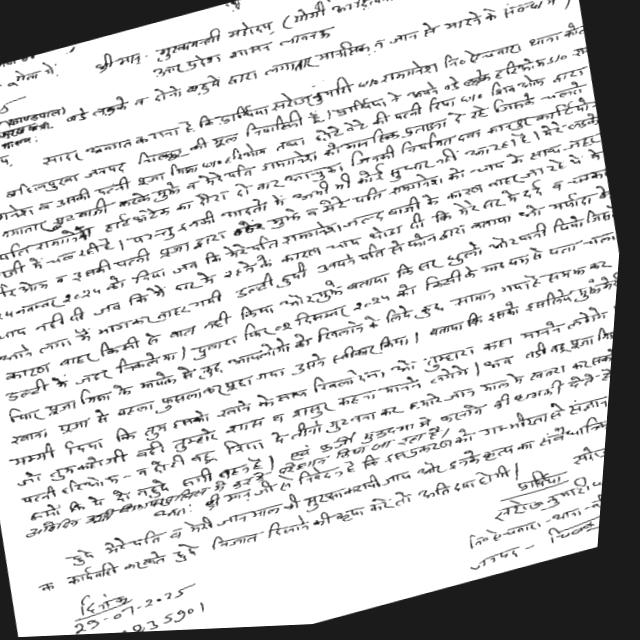antritgovtstamp: (275, 0, 475, 24)
signnamestamp: (0, 60, 74, 167)
